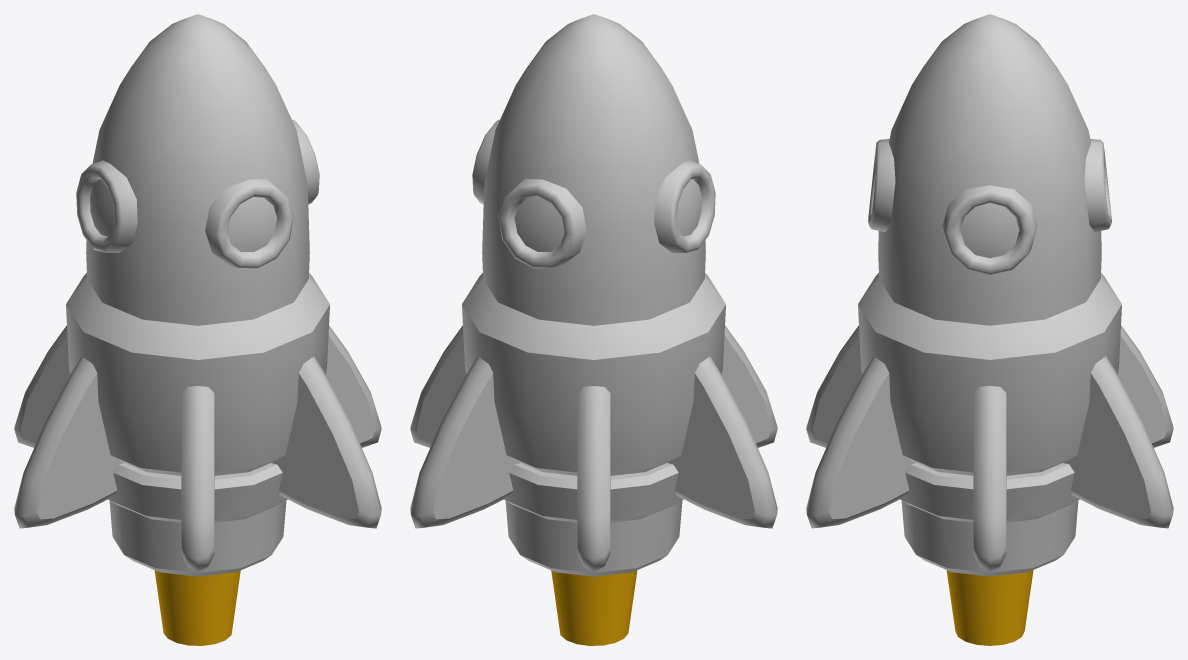
The model's file is rocket_002.fbx.
3 renders of one model, left to right at view 1: azimuth 30°, elevation 25°; view 2: azimuth 150°, elevation 25°; view 3: azimuth 270°, elevation 25°, orthographic.
Visible parts, largest first — view 1: rocket_002; view 2: rocket_002; view 3: rocket_002.
Part boxes in pixels (x1,y1,x2,y2): rocket_002: (14, 14, 381, 645); rocket_002: (410, 14, 777, 645); rocket_002: (806, 14, 1173, 645).
Size of the model in its own units: 681 by 592 by 1097.
